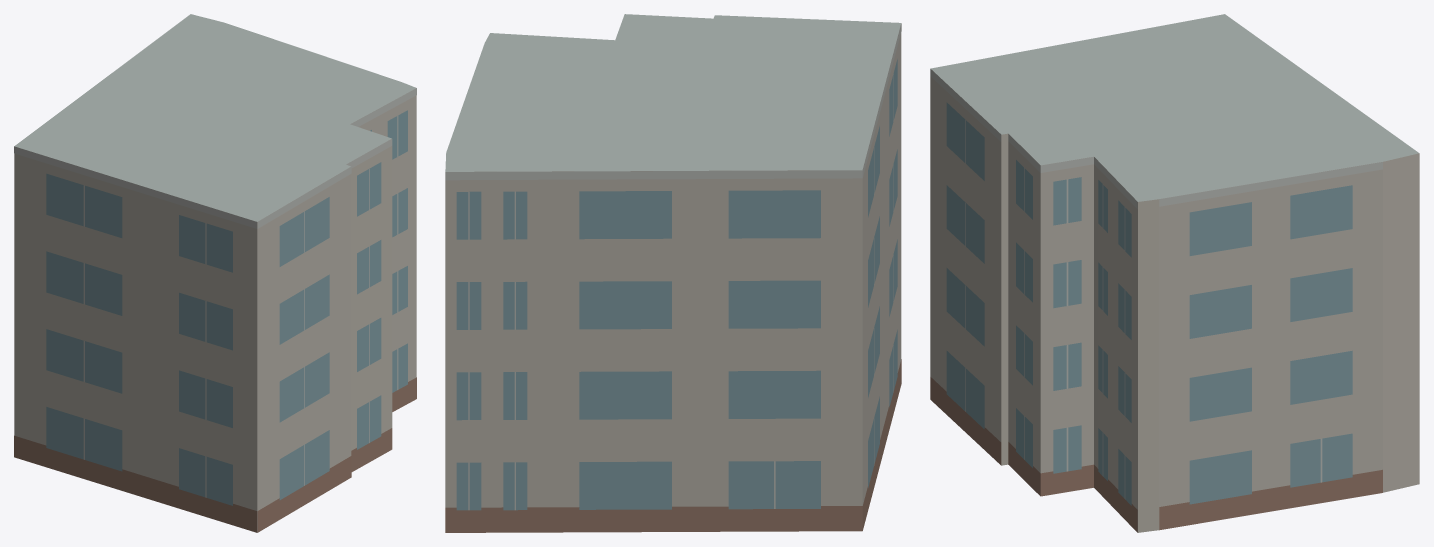
File: survey-upis-32758796.glb
3 views of the same model, side by side, from view 1: azimuth 30°, elevation 25°; view 2: azimuth 150°, elevation 25°; view 3: azimuth 270°, elevation 25° (orthographic). The views are drawn at different scales.
Parts seen in each view (by area): view 1: survey-upis-32758796.tmp; view 2: survey-upis-32758796.tmp; view 3: survey-upis-32758796.tmp.
Part boxes in pixels (<box>): survey-upis-32758796.tmp: <box>14,14,416,532</box>; survey-upis-32758796.tmp: <box>445,14,901,532</box>; survey-upis-32758796.tmp: <box>930,14,1419,532</box>.
Size of the model in its own units: 12.9 by 10.59 by 14.19.
